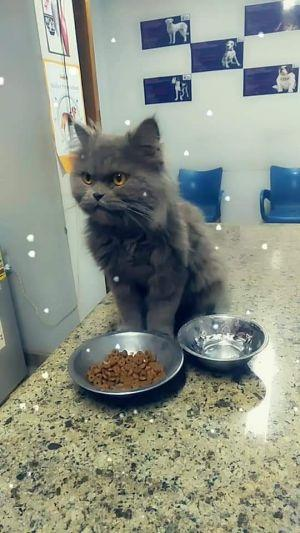persian: (60, 112, 181, 238)
